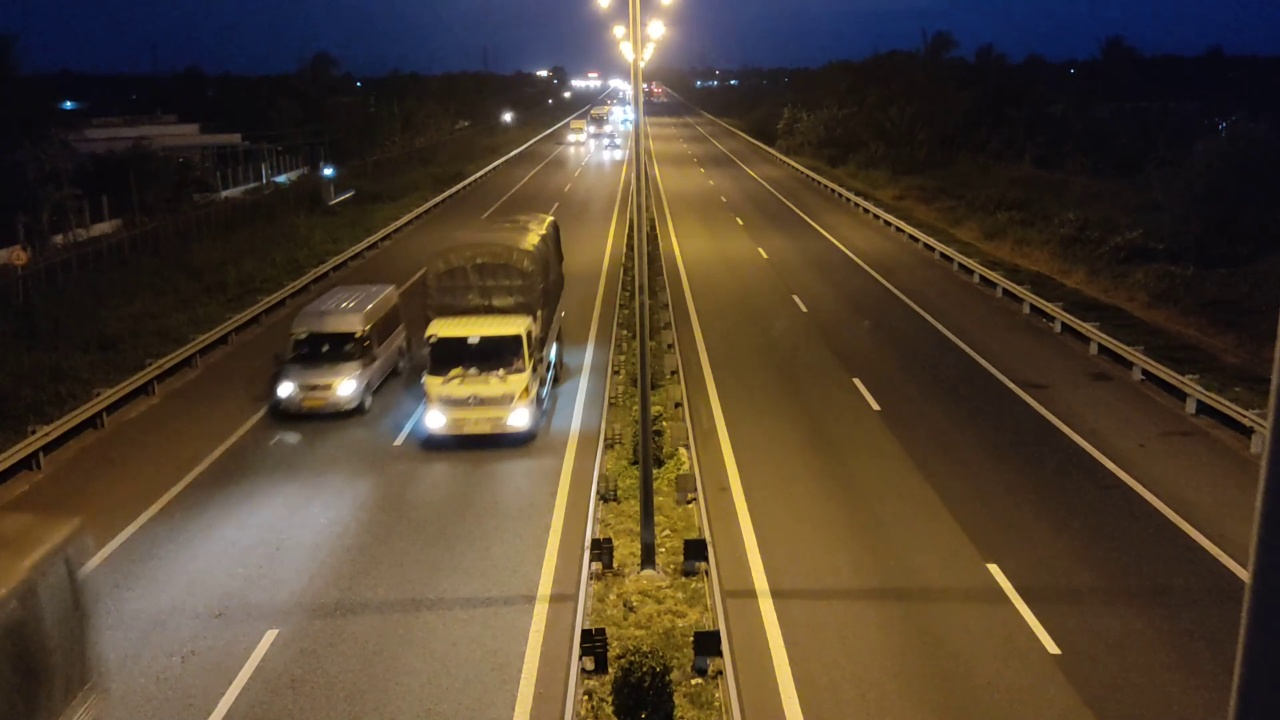car: (267, 274, 410, 418)
truck: (421, 210, 567, 447)
